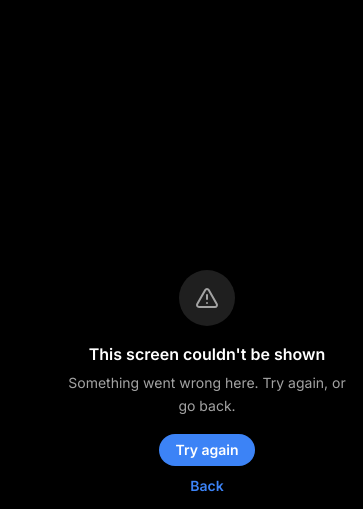
Test: ScreenErrorBoundary › keeps an error inside its screen, then recovers
Expected: the text "This screen couldn't be shown" is shown, [89,342,325,366]
Click the button "Try again" at (207, 450), box [160,434,255,466]
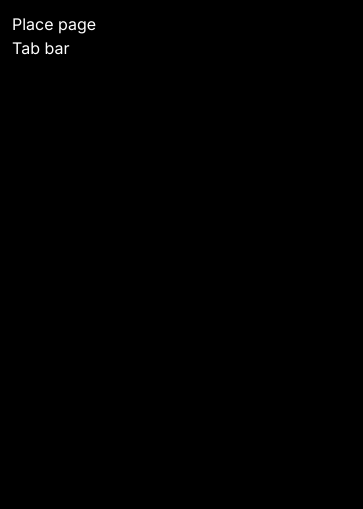
Expected: the text "Place page" is shown, [12,14,96,34]
